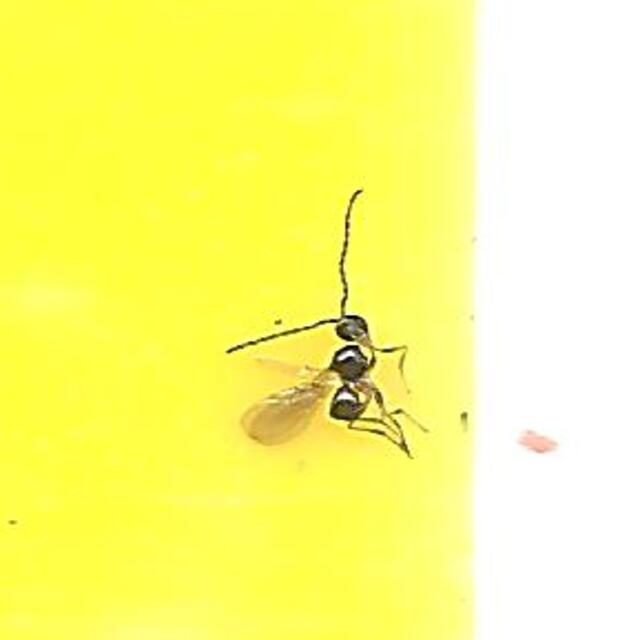Hymenoptera: (221, 187, 419, 453)
